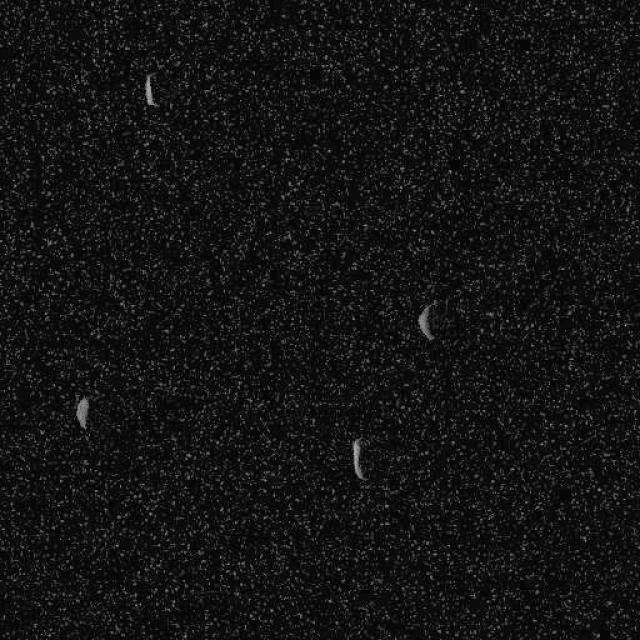D2: (350, 436, 369, 482), (416, 301, 436, 341), (142, 72, 158, 106), (74, 394, 90, 428)
